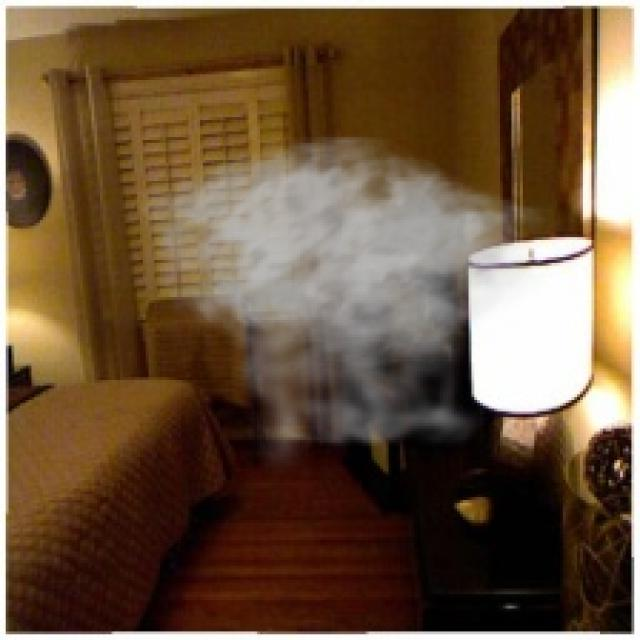smoke: (137, 134, 554, 477)
